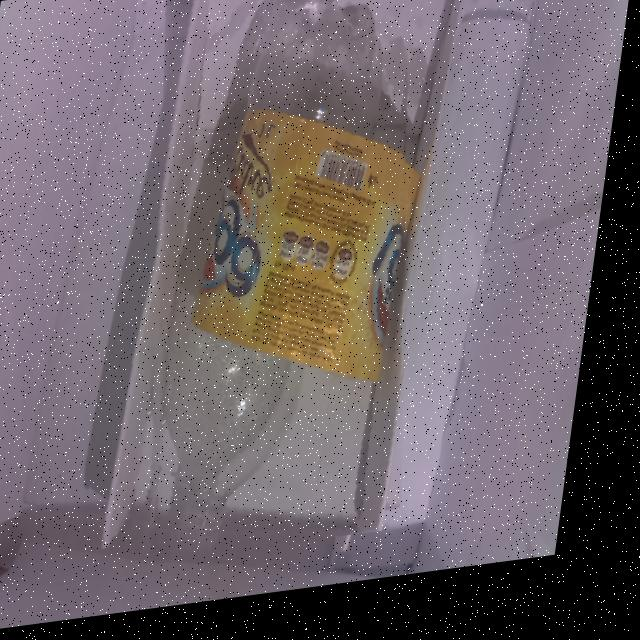plasticbottle: (120, 0, 460, 572)
